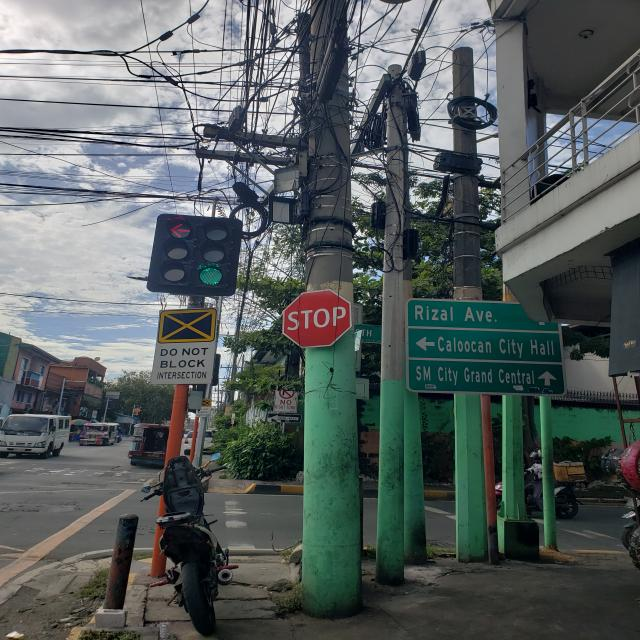stop-sign: (282, 288, 353, 349)
